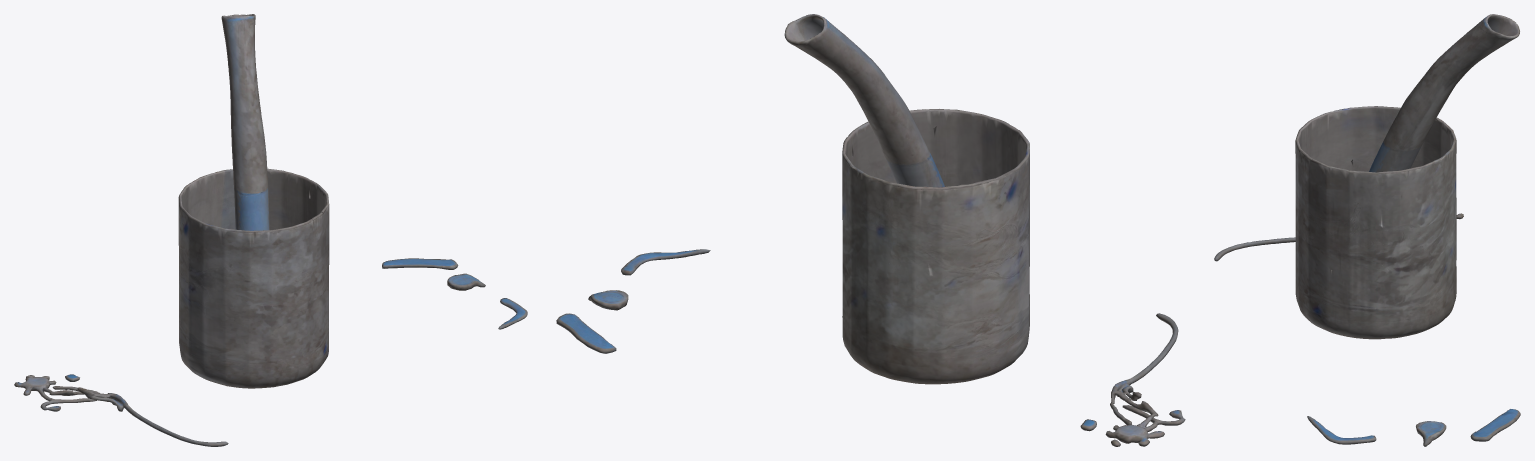
3 views of the same model, side by side, from view 1: azimuth 30°, elevation 25°; view 2: azimuth 150°, elevation 25°; view 3: azimuth 270°, elevation 25° (orthographic). The views are drawn at different scales.
Parts seen in each view (by area): view 1: file1; view 2: file1; view 3: file1.
Boxes of the visible parts, x1=… form: file1: x1=14, y1=14, x2=527, y2=446; file1: x1=556, y1=14, x2=1185, y2=446; file1: x1=1214, y1=14, x2=1520, y2=446.
Size of the model in its own units: 2 by 1.25 by 1.08.
1 material, 1 textured.
